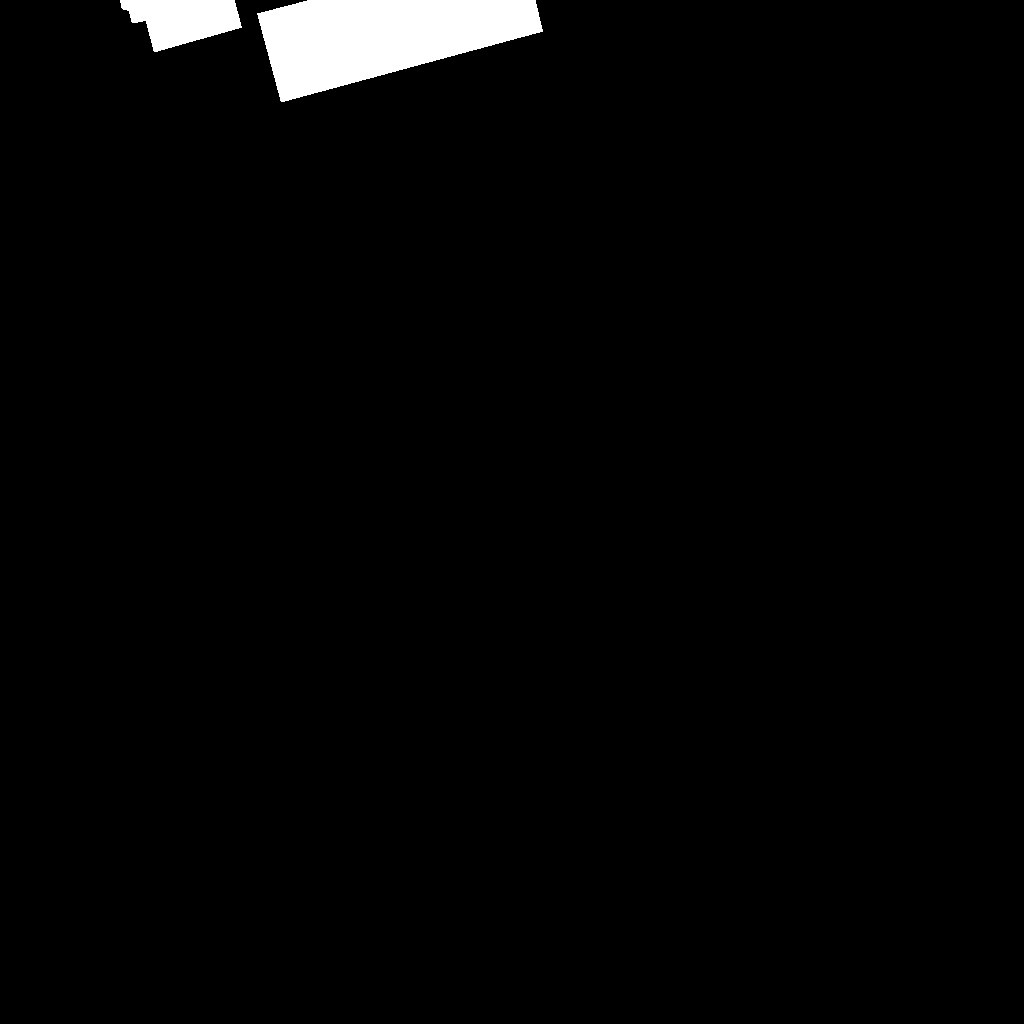building: (257, 0, 544, 103), (120, 0, 243, 53)
